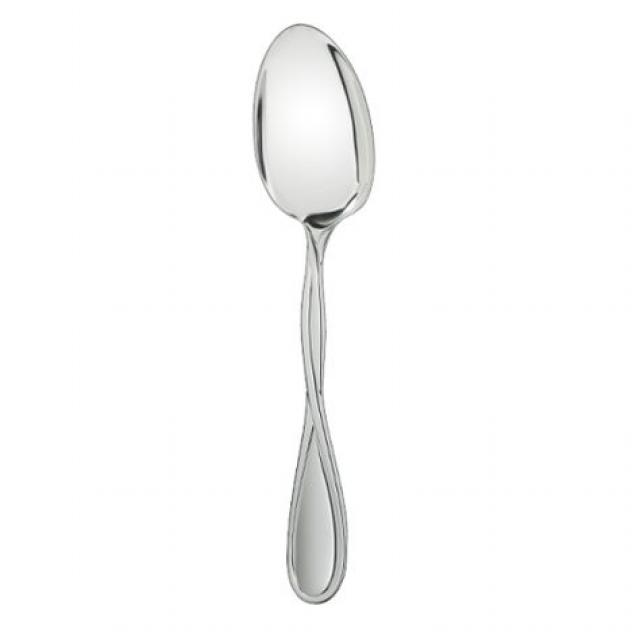spoon: (245, 19, 388, 614)
